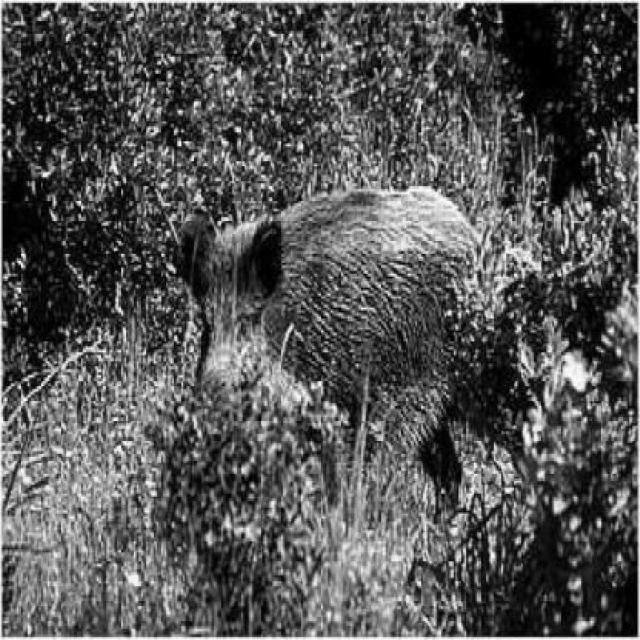Boar: (182, 165, 516, 526)
